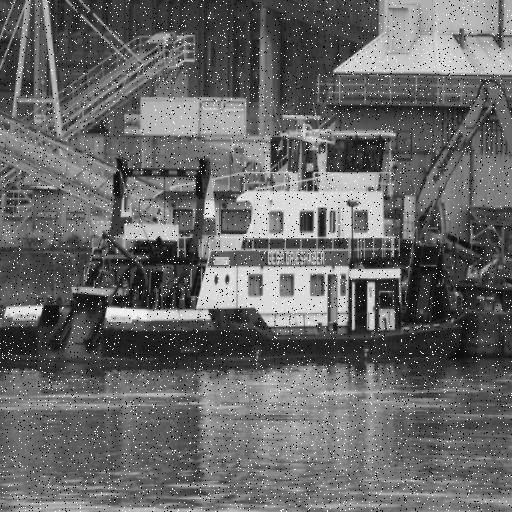tugboat: (1, 107, 469, 377)
